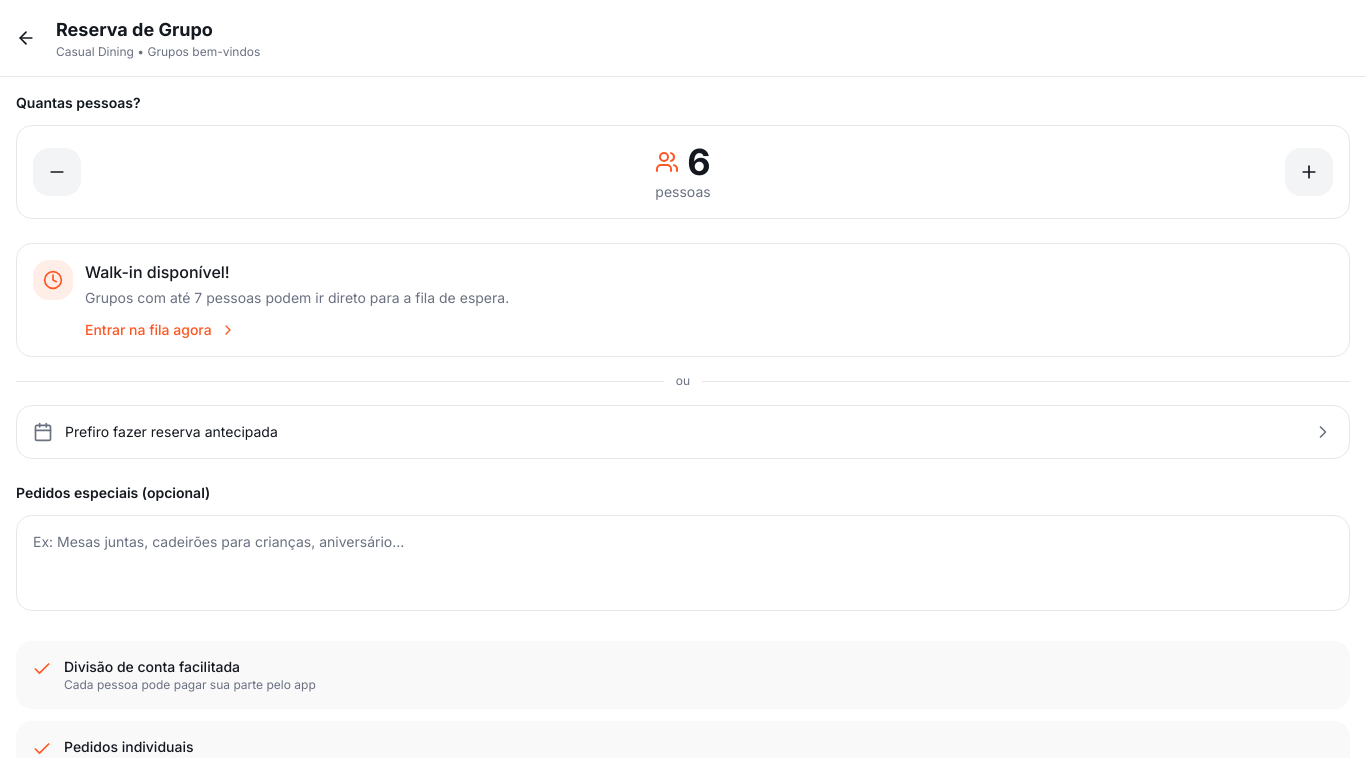
Scenario: GroupBookingScreenV2 › should show reservation required notice for groups >= 8
Note: Increase to 8
Click the 3rd button: click(1309, 172) [1285,148,1333,196]
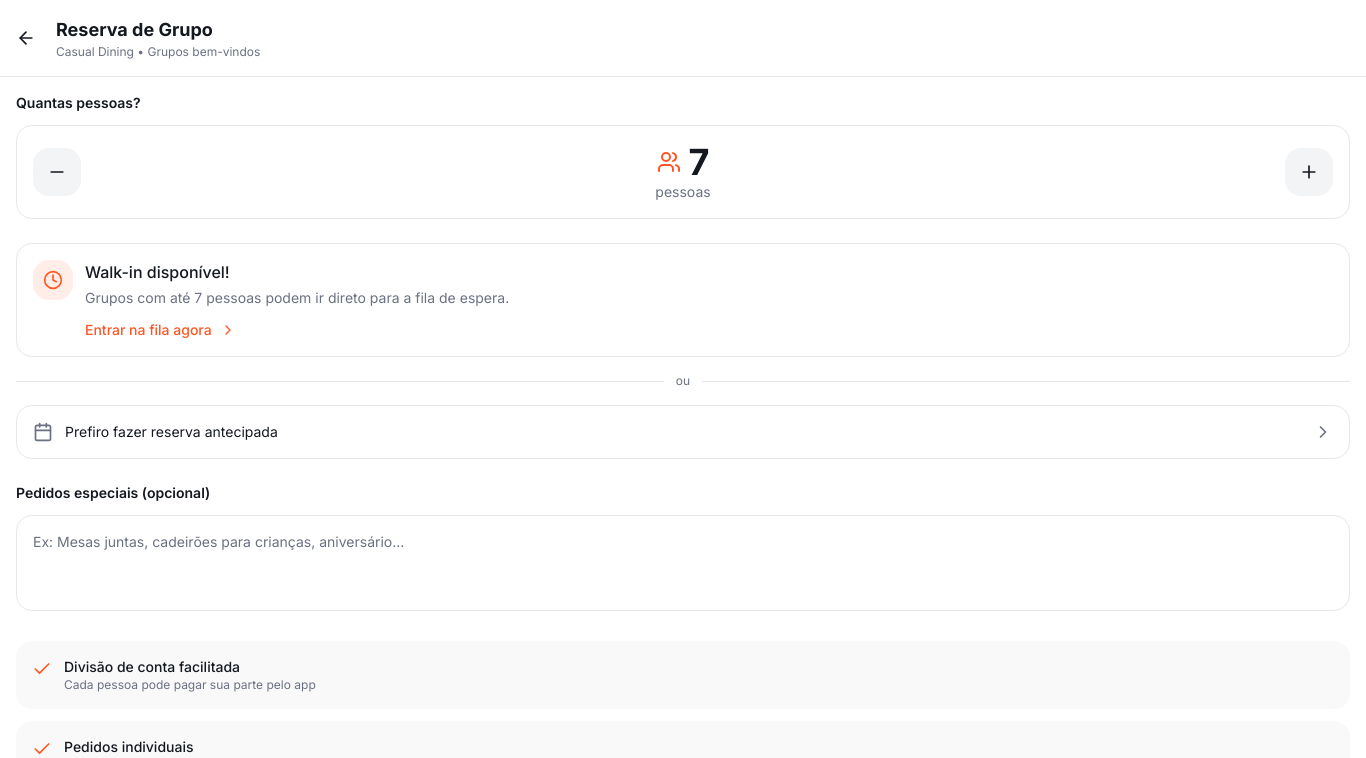
Click the 3rd button: click(1309, 172) [1285,148,1333,196]
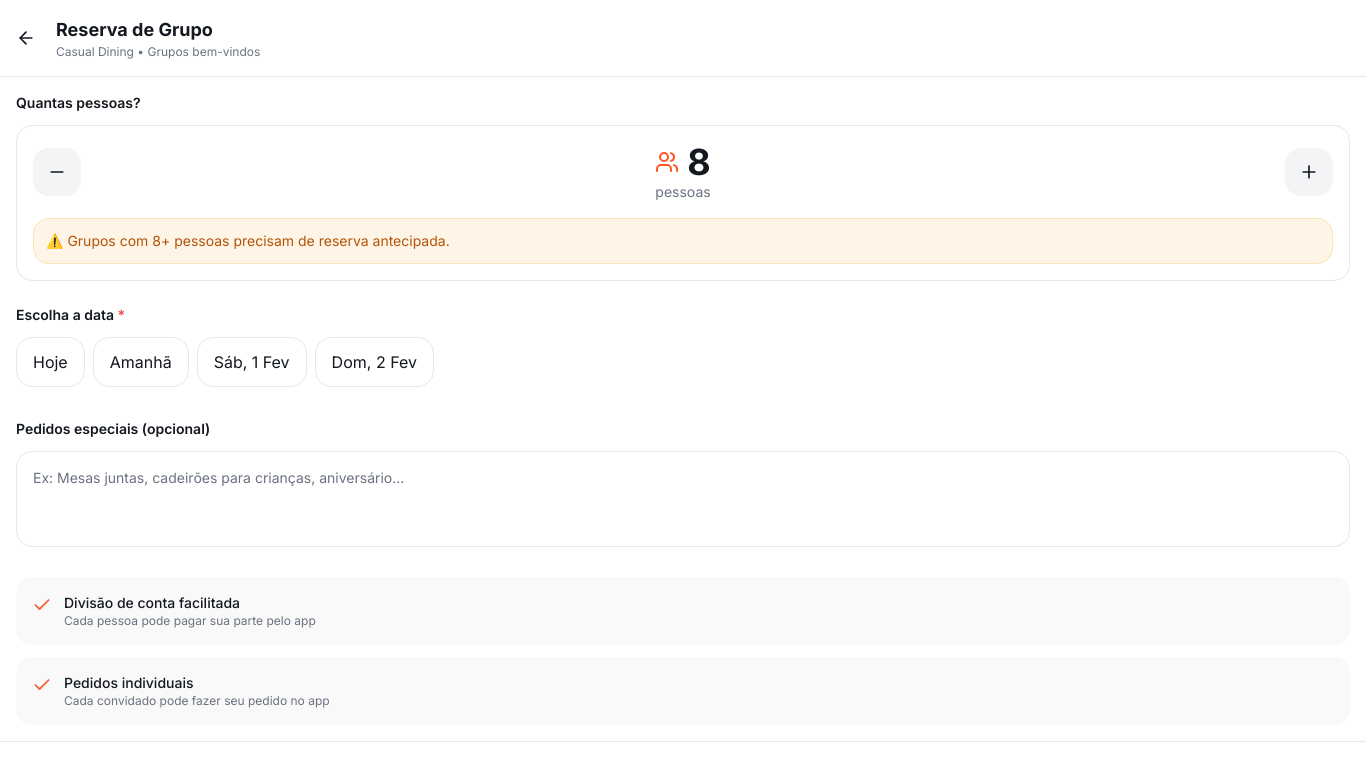
Check: the text "⚠️ Grupos com 8+ pessoas precisam de reserva antecipada." is shown, box [46,232,450,249]
